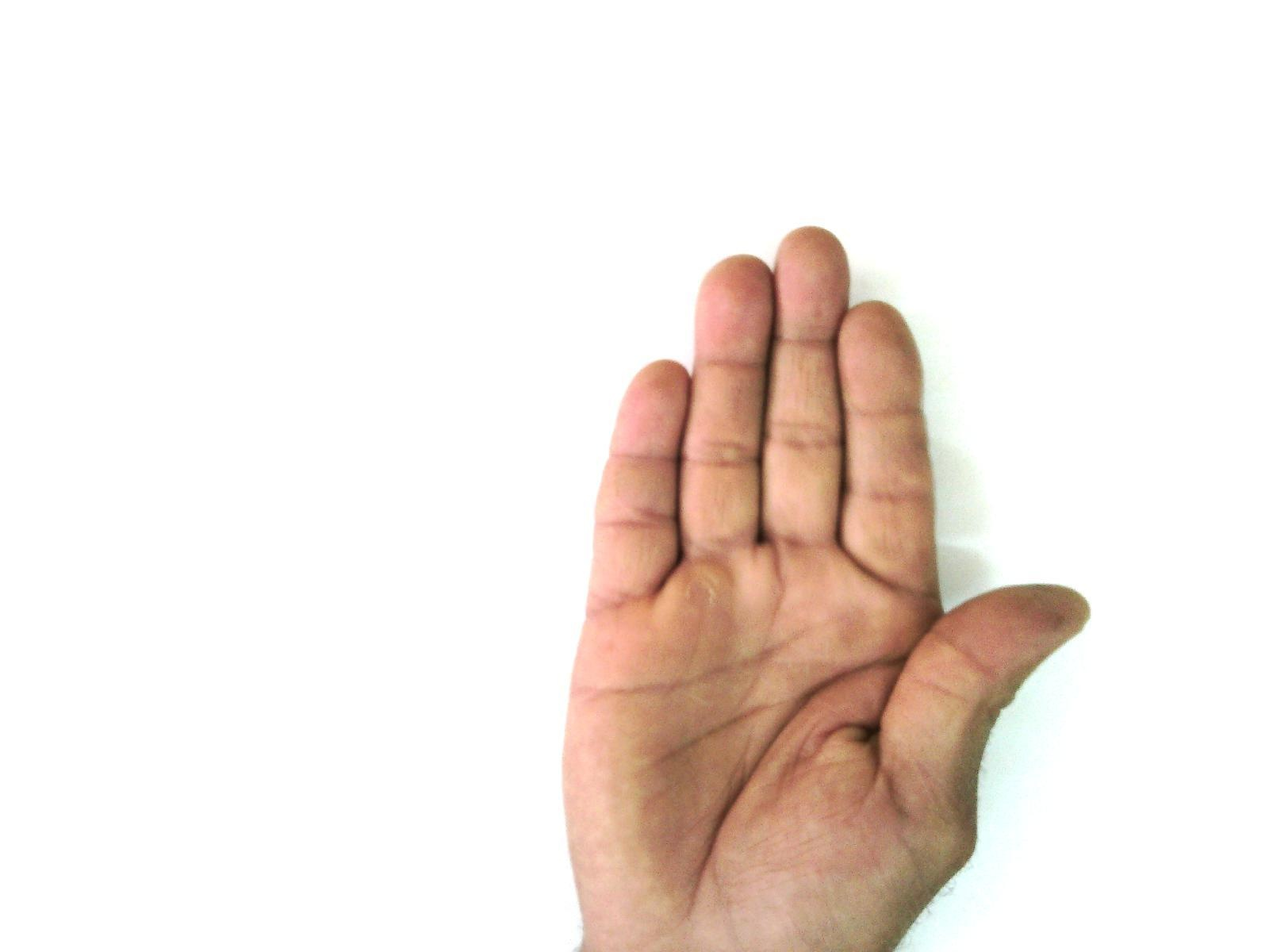open_palm: (558, 225, 1092, 951)
